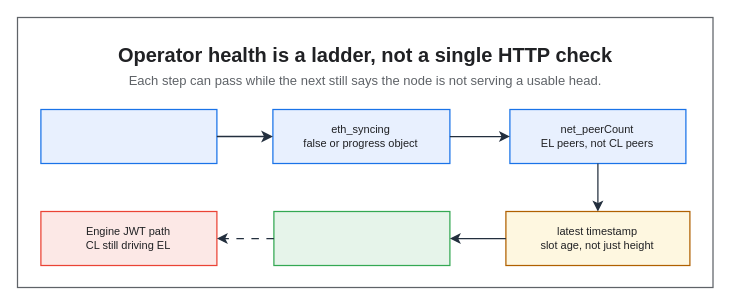
Image size: 731x306. Some labels were removed from this diagram. The shapes that lost their labels are listed below. From the top down, each one's box as (x1, y1, x2, y2) in pixels, then its label:
(40, 108, 217, 164): HTTP 200 socket and JSON body
(273, 210, 450, 266): safe / finalized lag gap is not a constant
